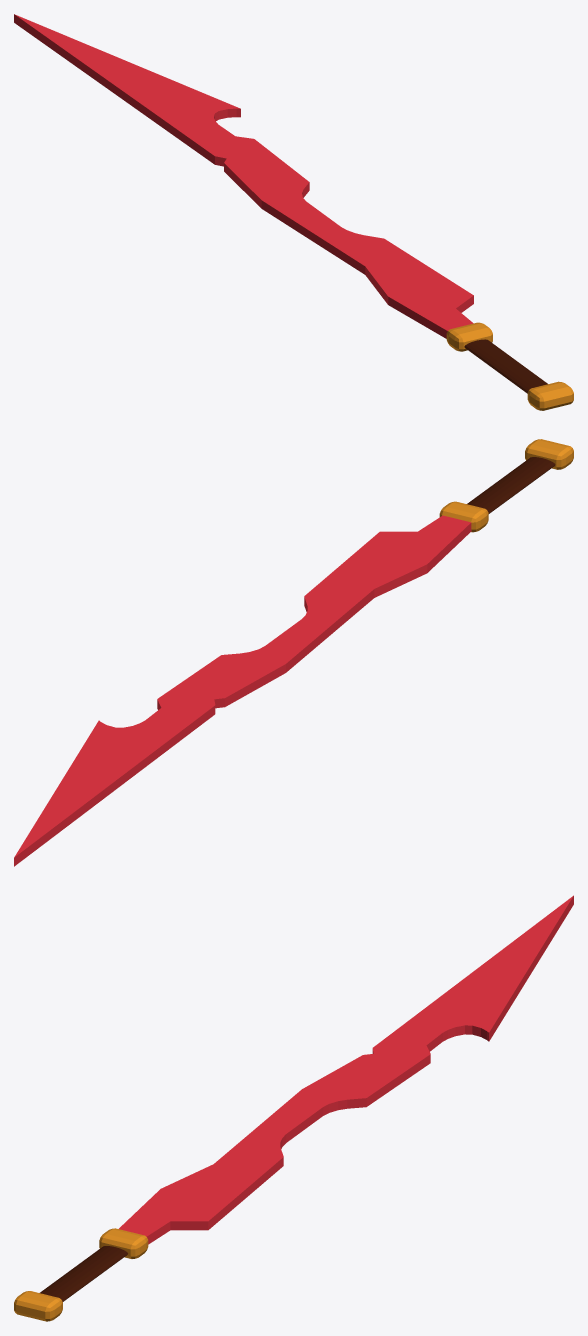
3 views of the same model, one above another, from view 1: azimuth 30°, elevation 25°; view 2: azimuth 150°, elevation 25°; view 3: azimuth 330°, elevation 25° (orthographic). The views are drawn at different scales.
Parts seen in each view (by area): view 1: 68; view 2: 68; view 3: 68.
Part boxes in pixels (x1,y1,x2,y2): 68: (14, 14, 573, 410); 68: (14, 439, 573, 866); 68: (14, 895, 573, 1321).
Size of the model in its own units: 5.43 by 1.04 by 60.79.
